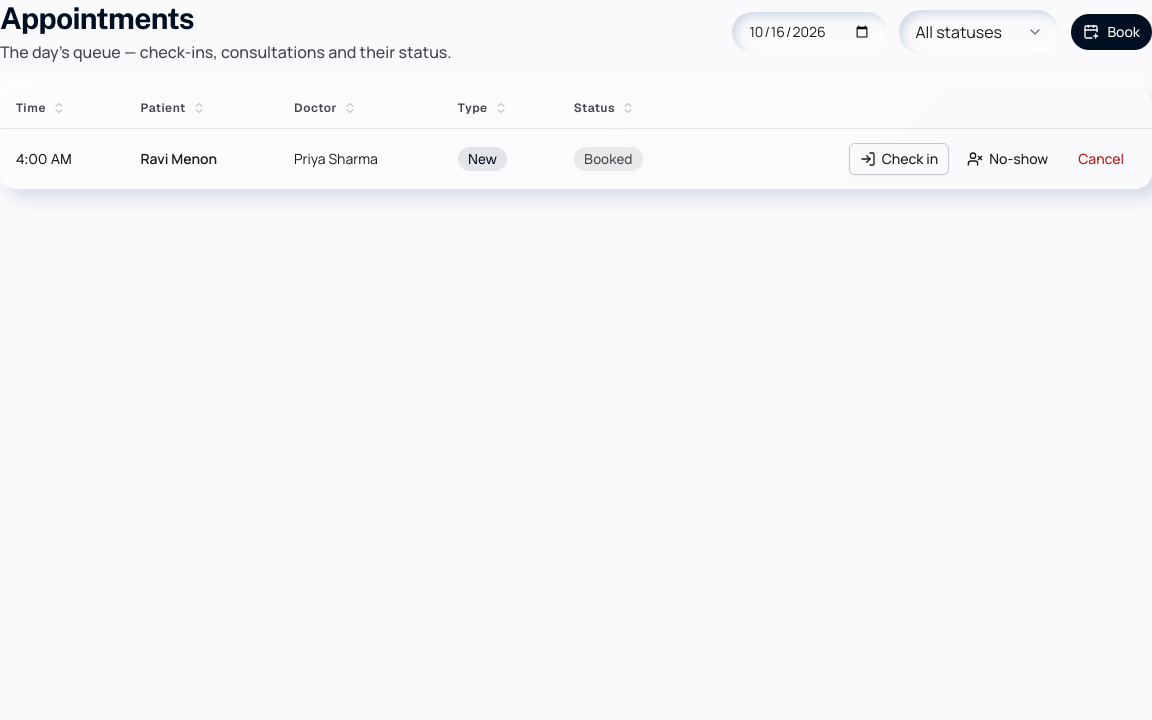
confirming a no-show › posts to /no-show with no body, then shows the status the server returned
The image size is (1152, 720).
Click the button "No-show" at [1008, 159], box [957,143,1058,175]
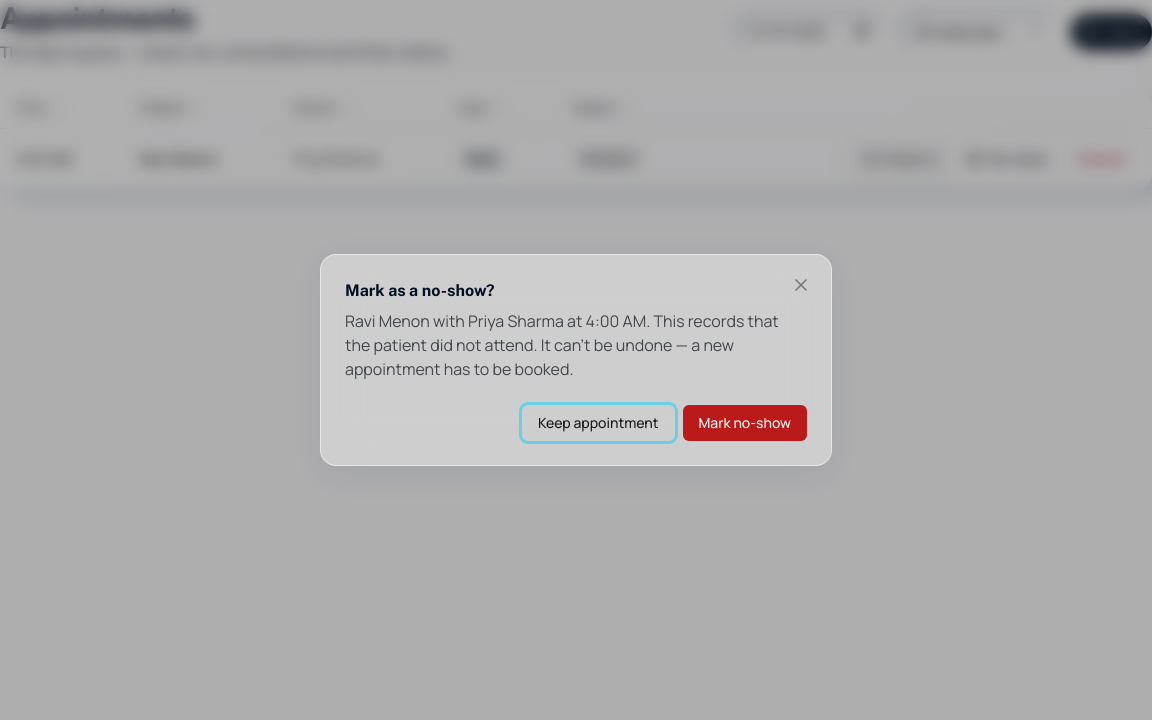
Click the button "Mark no-show" at [745, 423], box [682,405,807,441]
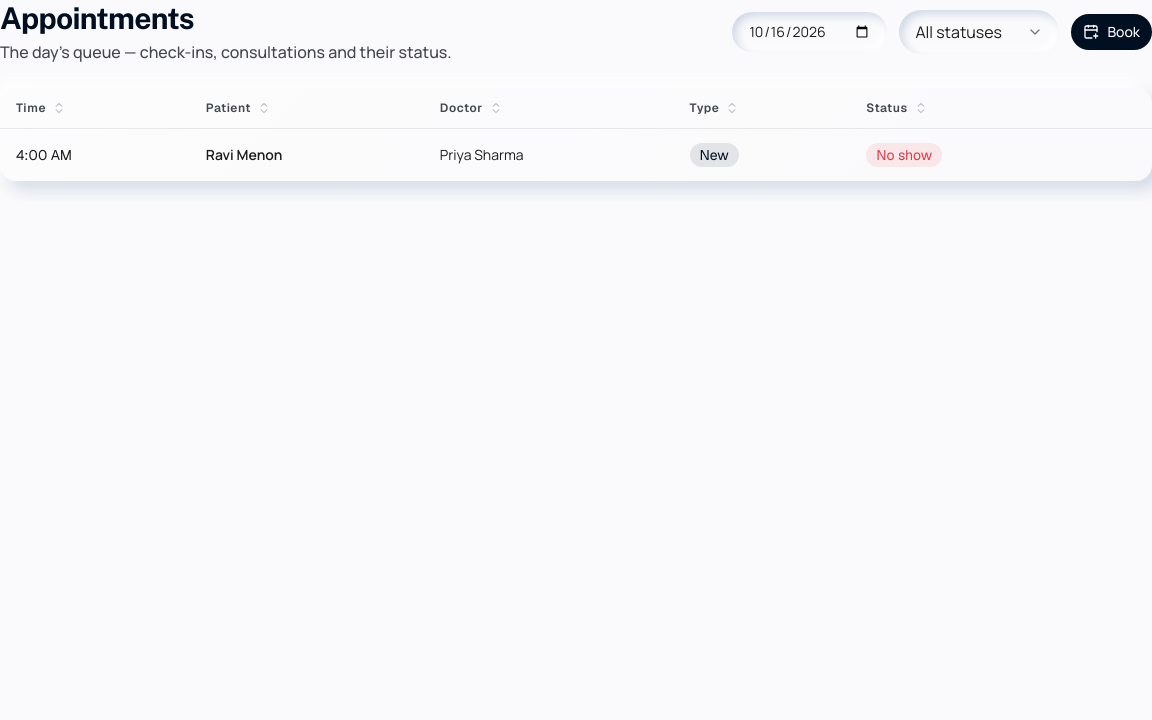
expect the dialog is gone: met
expect the text "No show" is shown: met, box [866,143,942,167]
